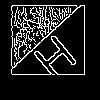H: (25, 25, 80, 84)
